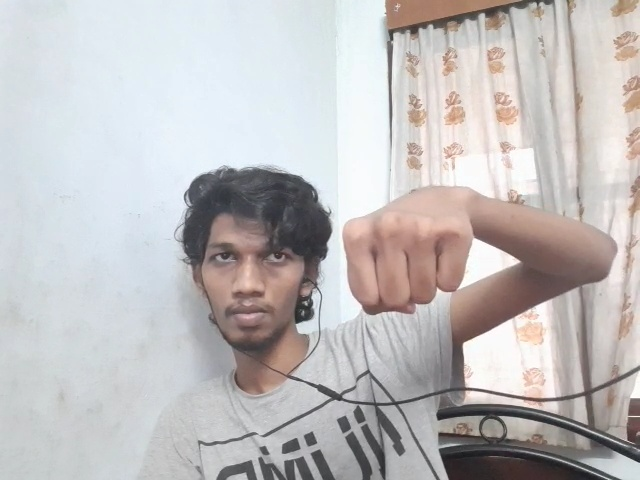Yes: (342, 185, 474, 315)
